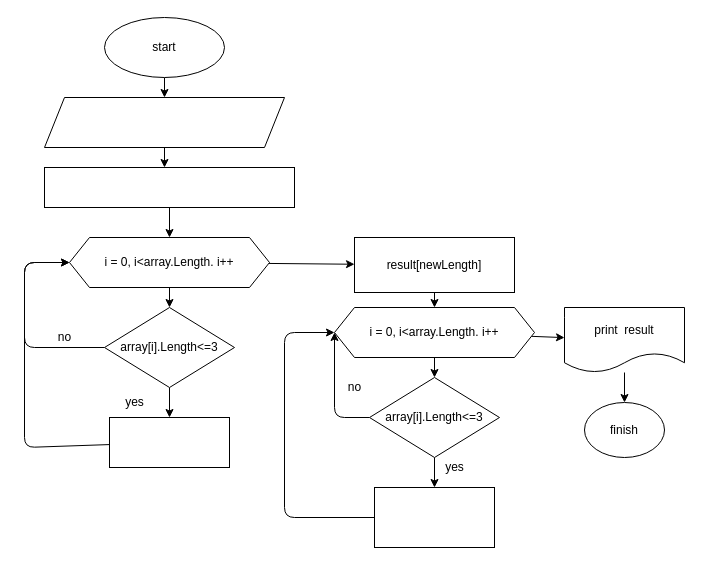
The diagram is 702 pixels wide and 565 high, and some of its shapes have lost their labels. The shapes that lost their labels are listed below. From the top down, each one's centre as x and y in pixels, then its label:
At [164,122]: "array = [Hello, 2, world, ;-)]".
At [169,187]: "newLength = 0 j = 0".
At [169,442]: "newLength ++".
At [434,517]: "result[j] = array[i] j++".
